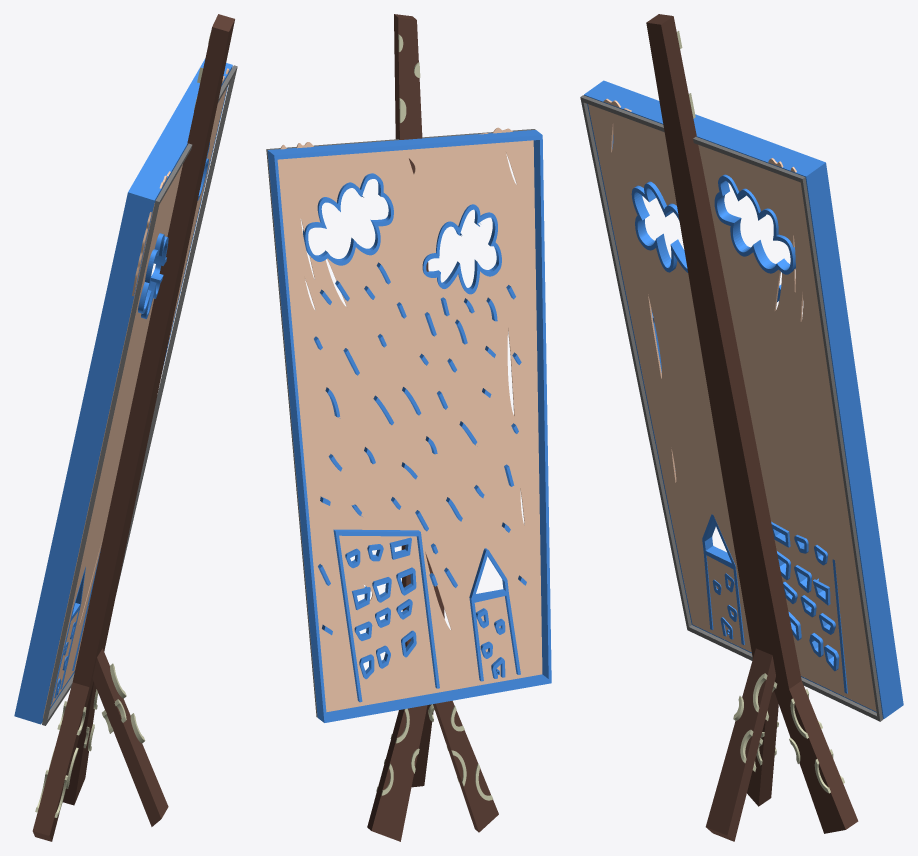
3 views of the same model, side by side, from view 1: azimuth 30°, elevation 25°; view 2: azimuth 150°, elevation 25°; view 3: azimuth 270°, elevation 25° (orthographic). The views are drawn at different scales.
Parts seen in each view (by area): view 1: 27; view 2: 27; view 3: 27.
Boxes of the visible parts, x1,y1,x2,y2 form: 27: [14, 14, 237, 841]; 27: [266, 14, 551, 841]; 27: [580, 14, 903, 841].
Bounding box in the file's own units: 0.249 × 0.735 × 0.2525.
